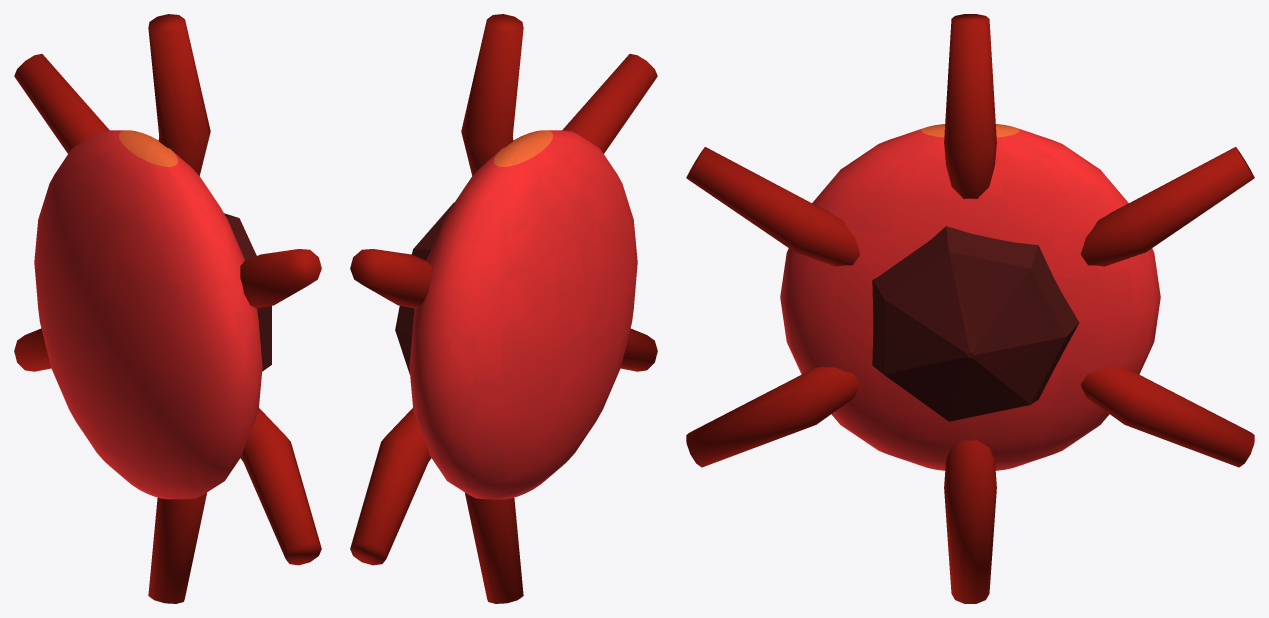
The model's file is SM_RV_ShieldHub.fbx.
3 views of the same model, side by side, from view 1: azimuth 30°, elevation 25°; view 2: azimuth 150°, elevation 25°; view 3: azimuth 270°, elevation 25° (orthographic).
Parts seen in each view (by area): view 1: SM_RV_ShieldHub; view 2: SM_RV_ShieldHub; view 3: SM_RV_ShieldHub.
Part boxes in pixels (x1=…): SM_RV_ShieldHub: x1=14, y1=14, x2=321, y2=603; SM_RV_ShieldHub: x1=350, y1=14, x2=657, y2=603; SM_RV_ShieldHub: x1=686, y1=14, x2=1254, y2=603.
Bounding box in the file's own units: 26.88 × 10 × 30.28.
